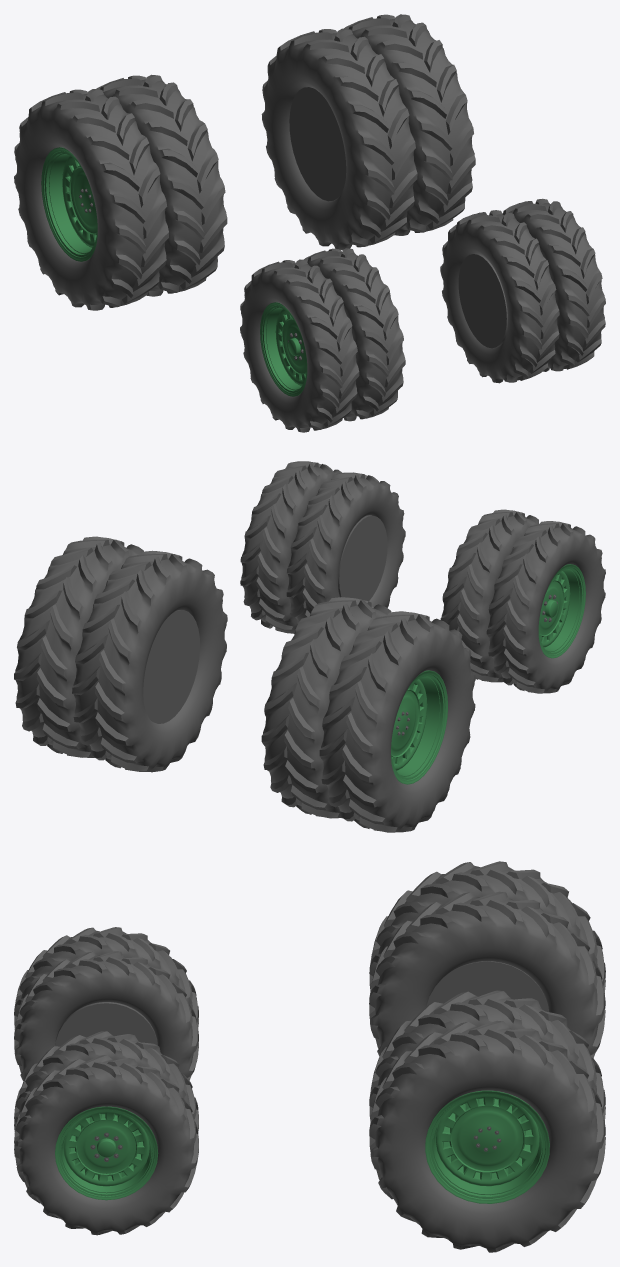
Rendered from колеса.fbx.
3 views of the same model, one above another, from view 1: azimuth 30°, elevation 25°; view 2: azimuth 150°, elevation 25°; view 3: azimuth 270°, elevation 25° (orthographic). The views are drawn at different scales.
Parts seen in each view (by area): view 1: BackL, BackR, frontL, frontR; view 2: BackR, BackL, frontR, frontL; view 3: BackL, frontL, BackR, frontR.
Part boxes in pixels (bbox=[...]): BackL: bbox=[261, 14, 475, 250]; BackR: bbox=[14, 74, 227, 310]; frontL: bbox=[440, 198, 605, 383]; frontR: bbox=[240, 248, 405, 432]; BackR: bbox=[261, 597, 475, 832]; BackL: bbox=[14, 536, 227, 772]; frontR: bbox=[440, 509, 605, 693]; frontL: bbox=[240, 461, 405, 633]; BackL: bbox=[369, 990, 605, 1252]; frontL: bbox=[14, 1031, 198, 1235]; BackR: bbox=[369, 861, 605, 1057]; frontR: bbox=[14, 927, 198, 1080].
Size of the model in its own units: 439 by 232 by 578.
